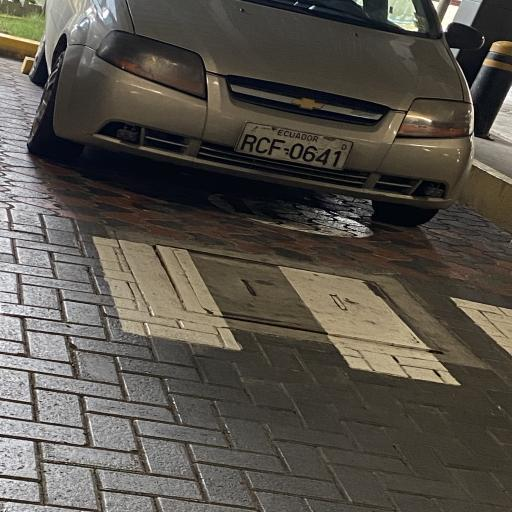license_plate: (266, 135, 285, 160), (240, 131, 257, 155), (254, 135, 270, 156), (288, 140, 304, 160), (316, 148, 332, 168), (303, 143, 318, 164), (330, 149, 342, 169)
